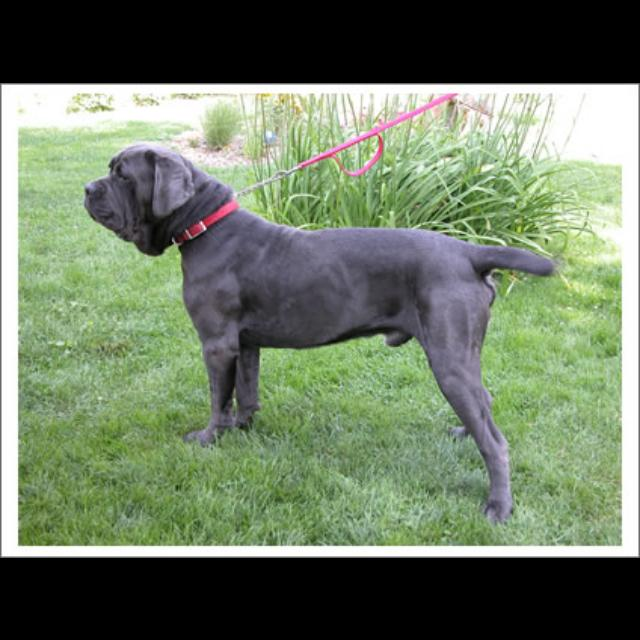mastino_napoletano: (83, 141, 556, 525)
